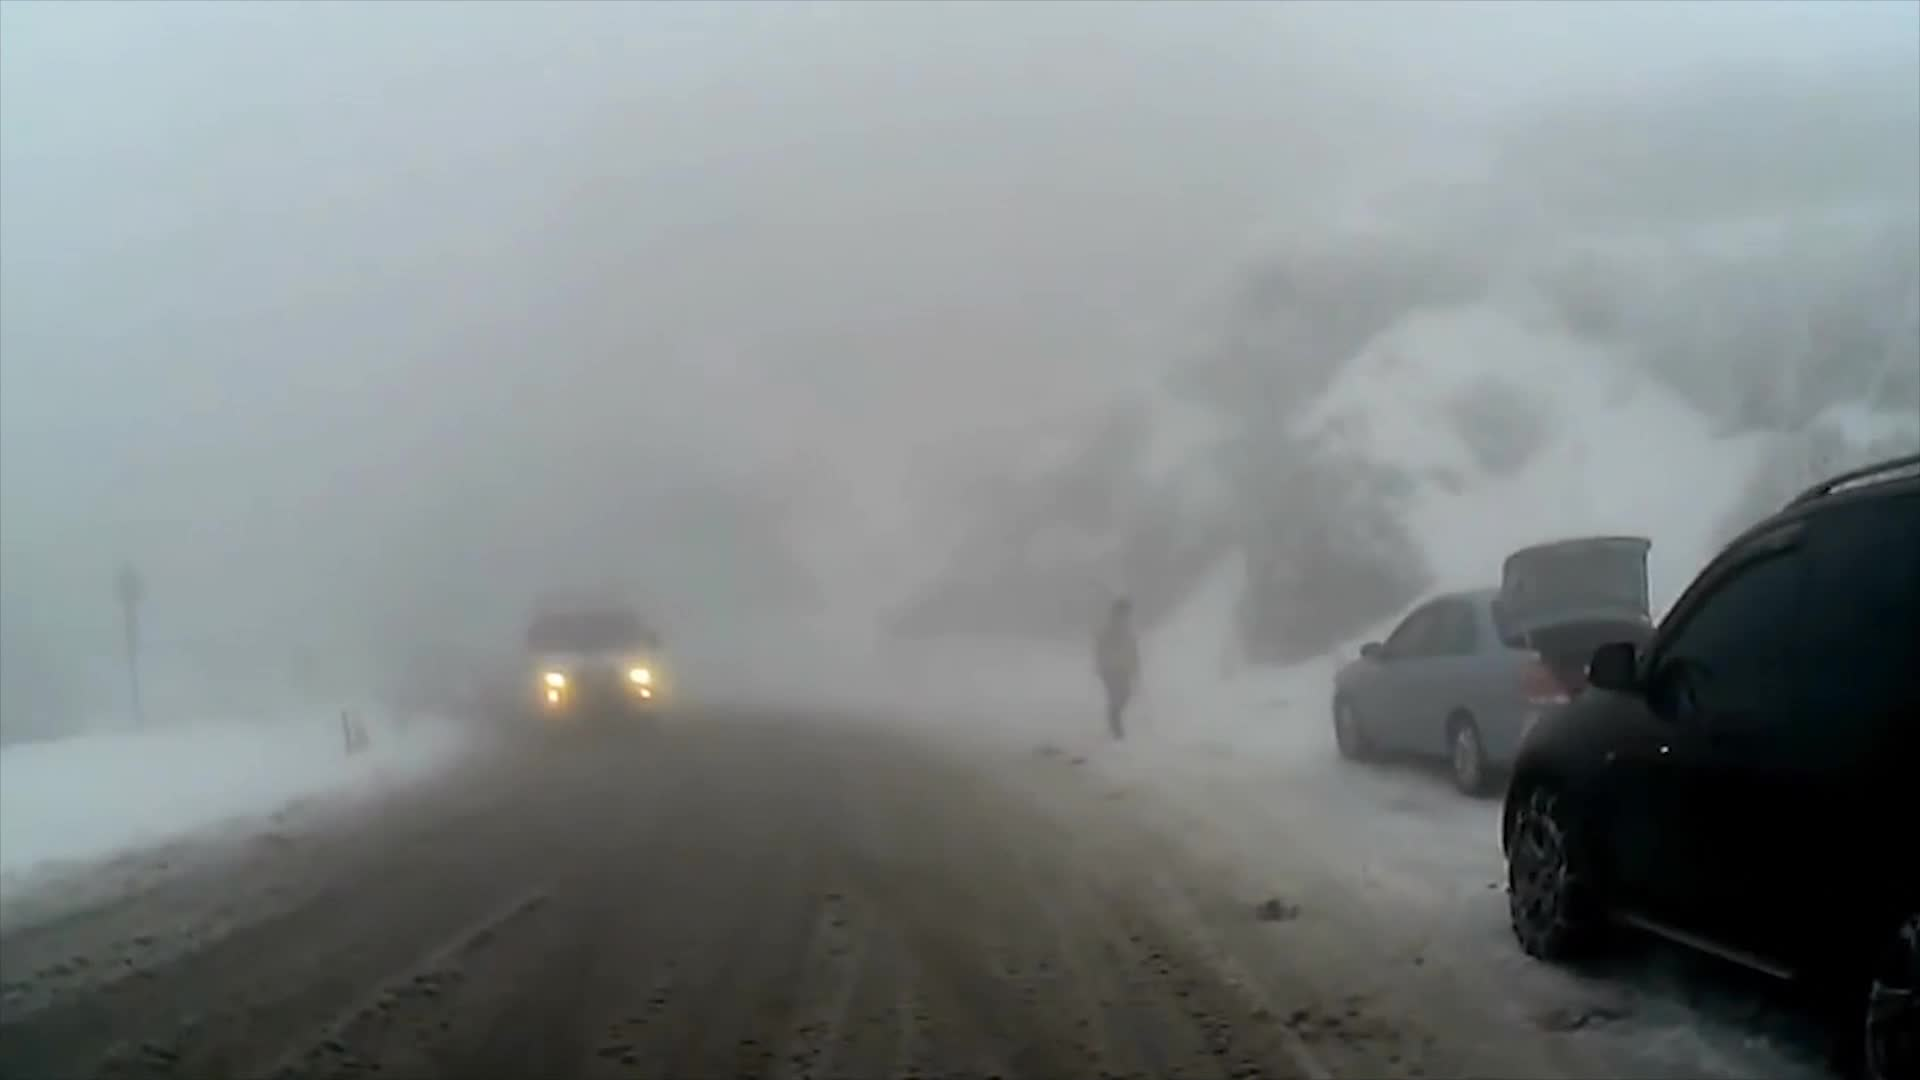pedestrian: (1098, 603, 1147, 738)
vehicle: (1499, 446, 1920, 1080), (1331, 531, 1702, 802), (519, 587, 665, 742)
